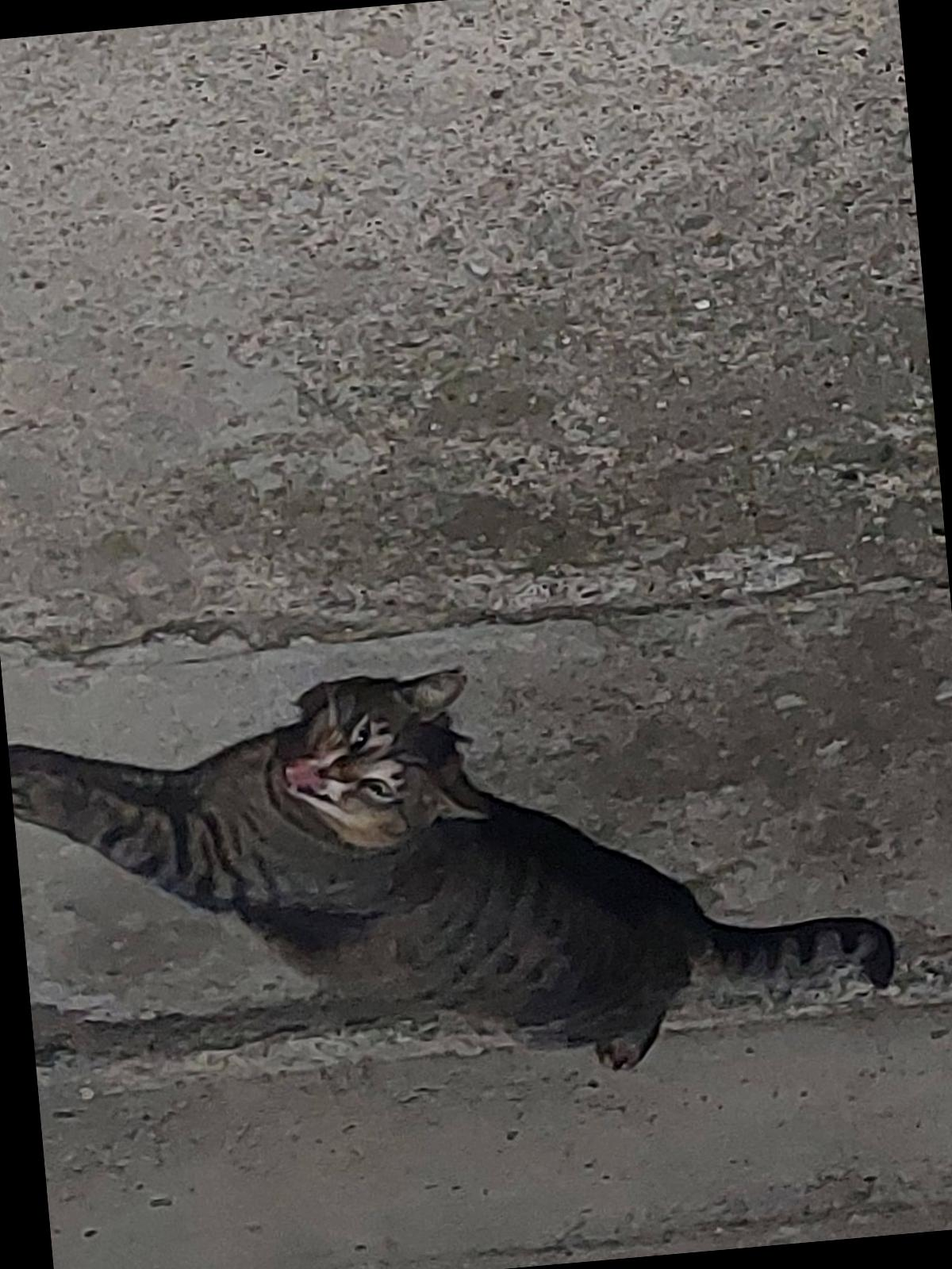macka: (5, 634, 904, 1124)
